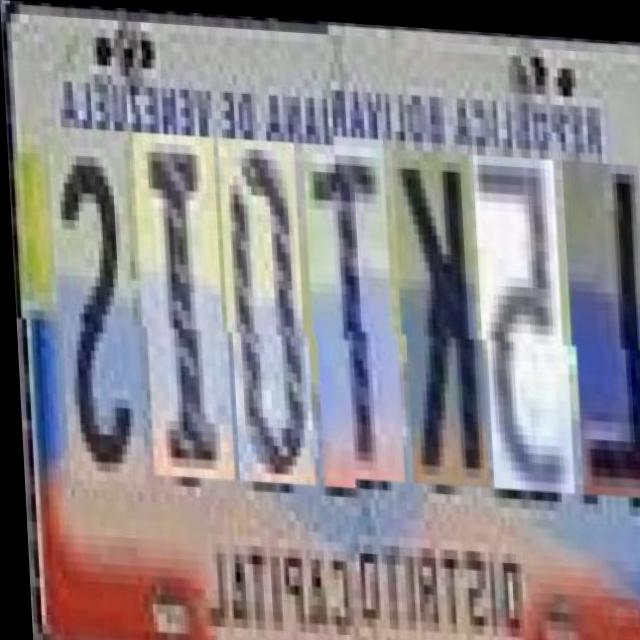0: (216, 135, 307, 481)
5: (472, 157, 567, 495)
i: (131, 130, 226, 477)
k: (391, 152, 481, 491)
l: (561, 161, 640, 500)
s: (46, 125, 137, 482)
t: (301, 139, 395, 486)
